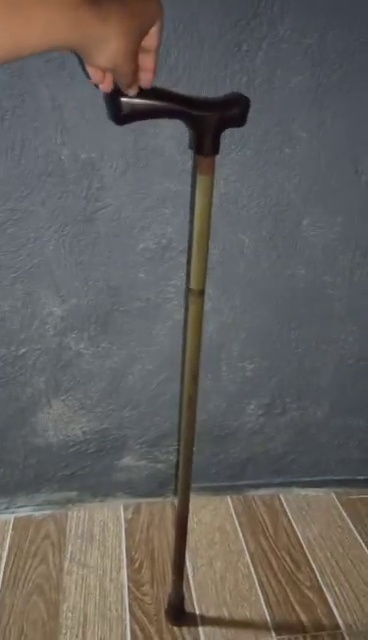cane: (104, 73, 251, 628)
hand: (1, 1, 161, 92)
